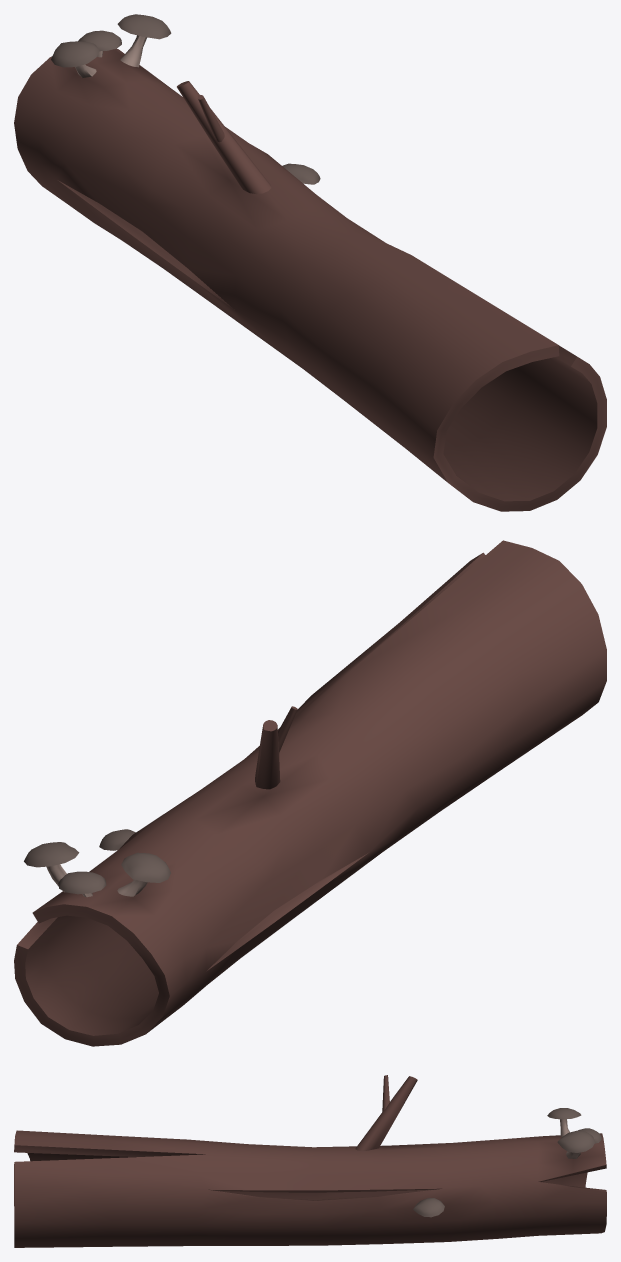
Rendered from nat_log_1.glb.
3 renders of one model, top to bottom at view 1: azimuth 30°, elevation 25°; view 2: azimuth 150°, elevation 25°; view 3: azimuth 270°, elevation 25°, orthographic. The views are drawn at different scales.
Parts seen in each view (by area): view 1: refined; view 2: refined; view 3: refined.
Boxes of the visible parts, x1=… form: refined: x1=14, y1=14, x2=606, y2=511; refined: x1=14, y1=540, x2=606, y2=1046; refined: x1=14, y1=1075, x2=606, y2=1247.
Size of the model in its own units: 0.592 by 0.7 by 2.5.
